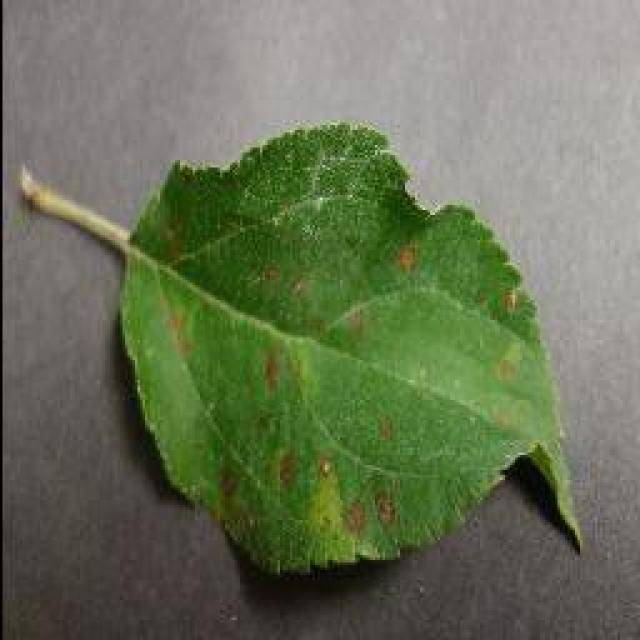Apple___Cedar_apple_rust: (109, 114, 585, 582)
